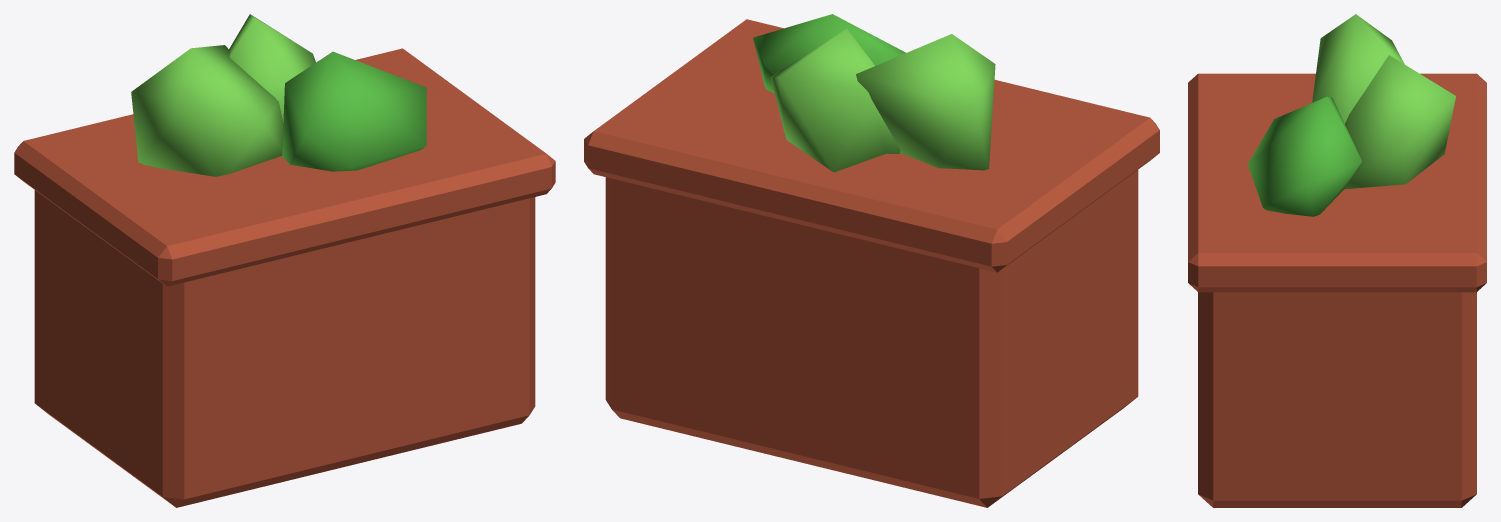
The model's file is planter_box_03.gltf.
The picture shows the model from 3 angles, left to right: view 1: azimuth 30°, elevation 25°; view 2: azimuth 150°, elevation 25°; view 3: azimuth 270°, elevation 25°; orthographic projection. The views are drawn at different scales.
Parts seen in each view (by area): view 1: box, rim, tp0, tp1, tp2; view 2: box, rim, tp0, tp2, tp1; view 3: box, rim, tp2, tp1, tp0.
Boxes of the visible parts, box(x1,y1,x2,y2) form: box: box(34, 190, 535, 507); rim: box(14, 48, 555, 286); tp0: box(131, 45, 283, 176); tp1: box(282, 51, 426, 171); tp2: box(229, 14, 315, 121); box: box(605, 170, 1138, 507); rim: box(584, 19, 1159, 272); tp0: box(856, 34, 995, 170); tp2: box(770, 29, 900, 172); tp1: box(753, 14, 905, 93); box: box(1198, 292, 1476, 507); rim: box(1188, 73, 1486, 292); tp2: box(1344, 55, 1455, 189); tp1: box(1247, 96, 1361, 216); tp0: box(1312, 14, 1404, 123).
Size of the model in its own units: 0.8777 by 0.8108 by 0.59.
